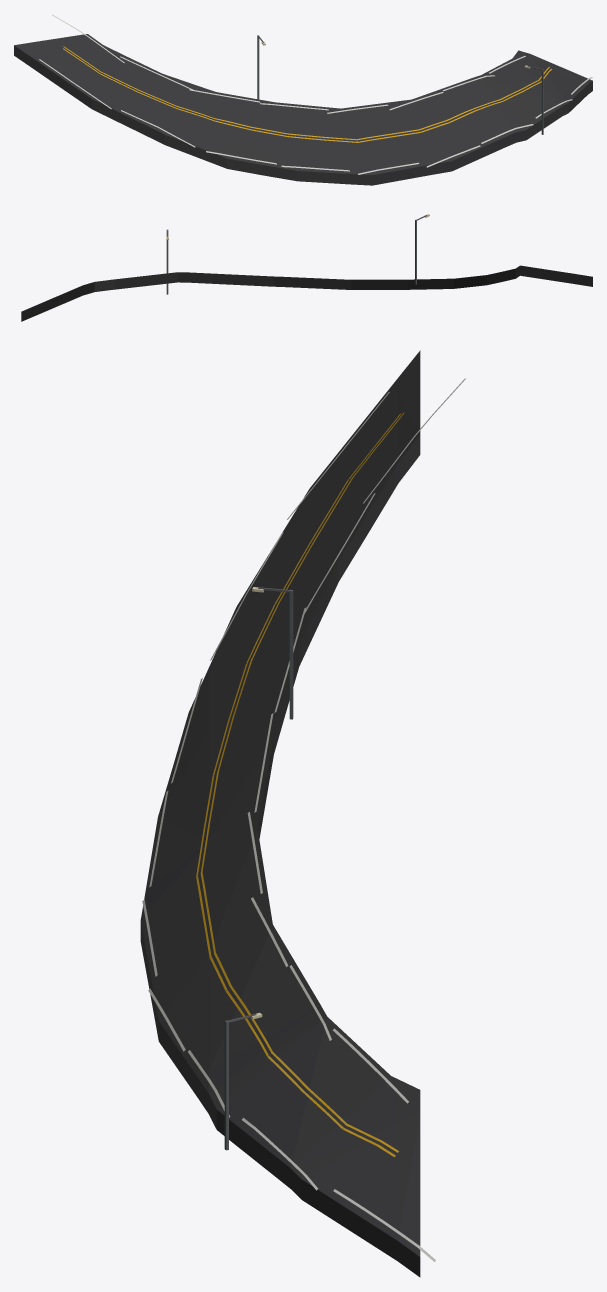
The picture shows the model from 3 angles, top to bottom: view 1: azimuth 30°, elevation 25°; view 2: azimuth 150°, elevation 25°; view 3: azimuth 270°, elevation 25°; orthographic projection. The views are drawn at different scales.
Bounding box in the file's own units: 70.37 × 22.76 × 17.25.
